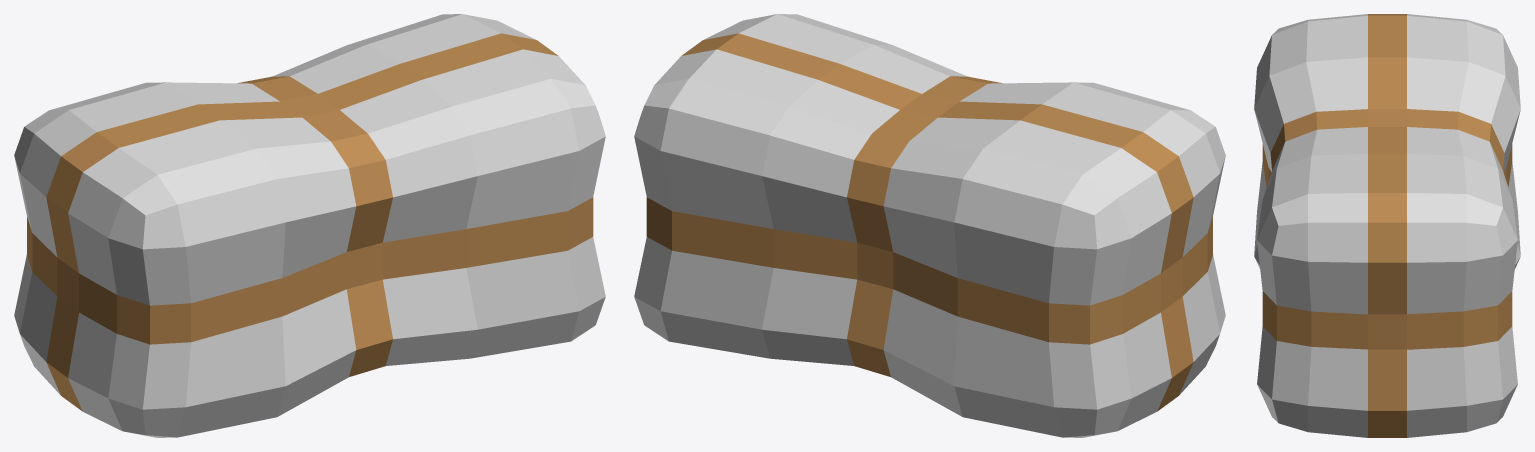
Rendered from SM_Drugs_01.gltf.
3 renders of one model, left to right at view 1: azimuth 30°, elevation 25°; view 2: azimuth 150°, elevation 25°; view 3: azimuth 270°, elevation 25°, orthographic. The views are drawn at different scales.
Parts seen in each view (by area): view 1: SM_Drugs_01; view 2: SM_Drugs_01; view 3: SM_Drugs_01.
Part boxes in pixels (x1,y1,x2,y2): SM_Drugs_01: (14,14,605,437); SM_Drugs_01: (634,14,1225,437); SM_Drugs_01: (1254,14,1520,437).
Bounding box in the file's own units: 0.4113 × 0.215 × 0.2091.
1 material, 1 textured.
